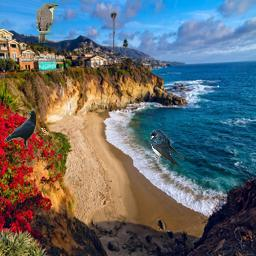Crow: (4, 109, 36, 149)
Cuckoo: (36, 3, 58, 43)
Sparrow: (41, 128, 51, 138)
Swallow: (150, 129, 184, 166)
